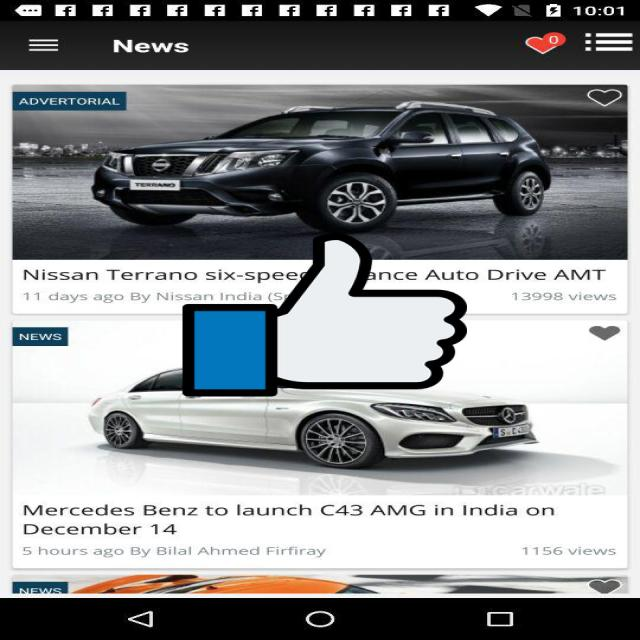privacy zuckering: (182, 229, 467, 400)
